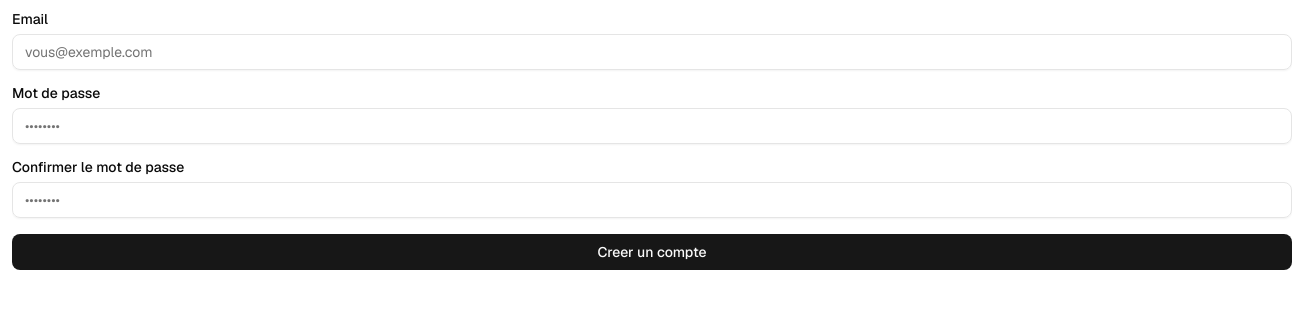
RegisterForm › shows error when passwords do not match
In the field labelled "Email": (652, 52) [12, 34, 1292, 70], type "test@example.com"
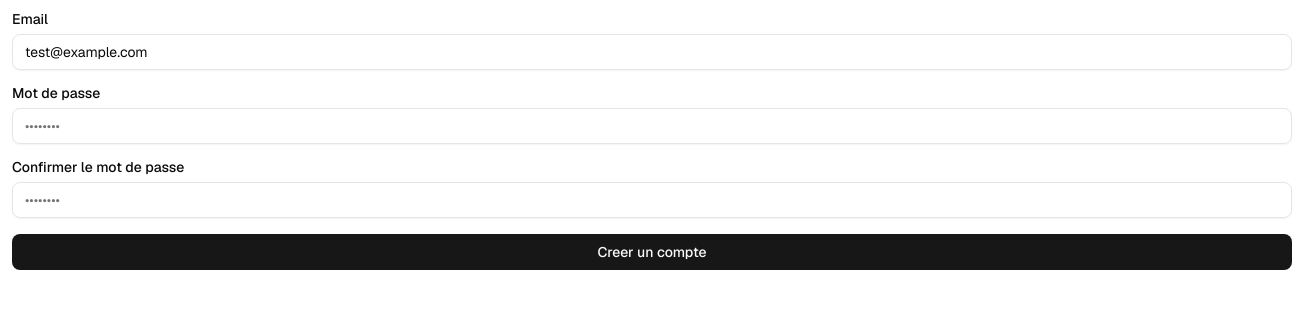
In the password field labelled "Mot de passe": (652, 126) [12, 108, 1292, 144], type "password123"
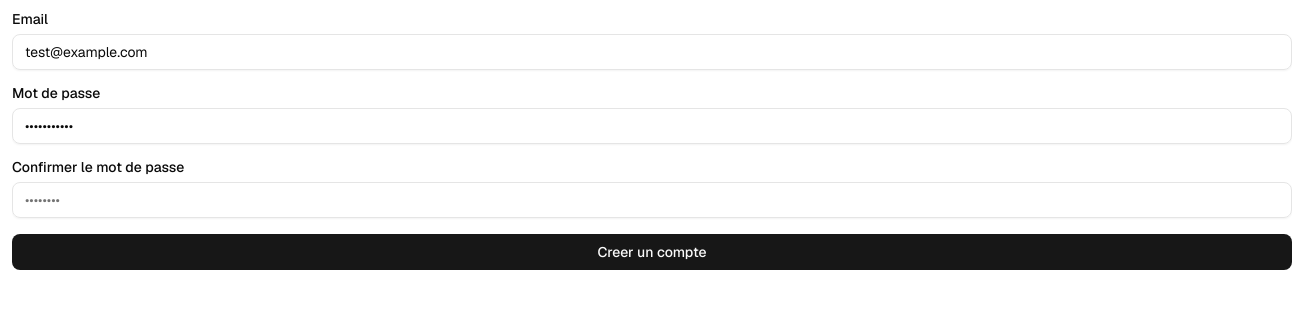
In the password field labelled "Confirmer le mot de passe": (652, 200) [12, 182, 1292, 218], type "differentpass"
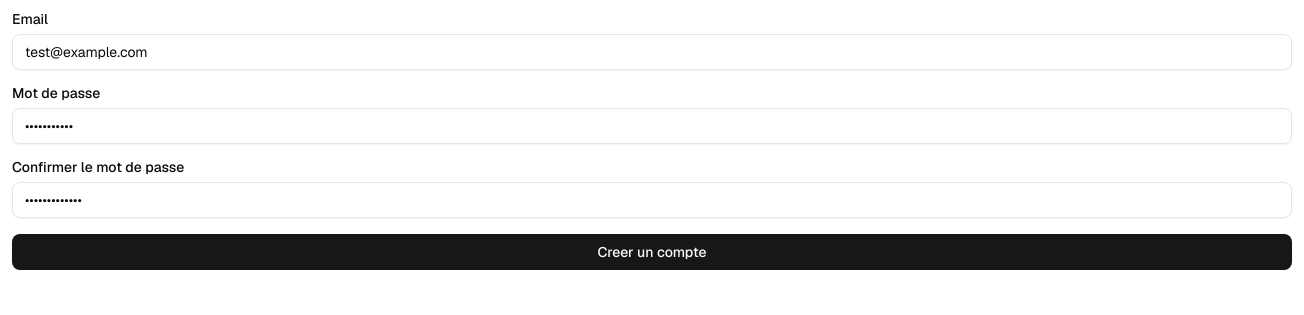
Click the button "Creer un compte": (652, 252) [12, 234, 1292, 270]
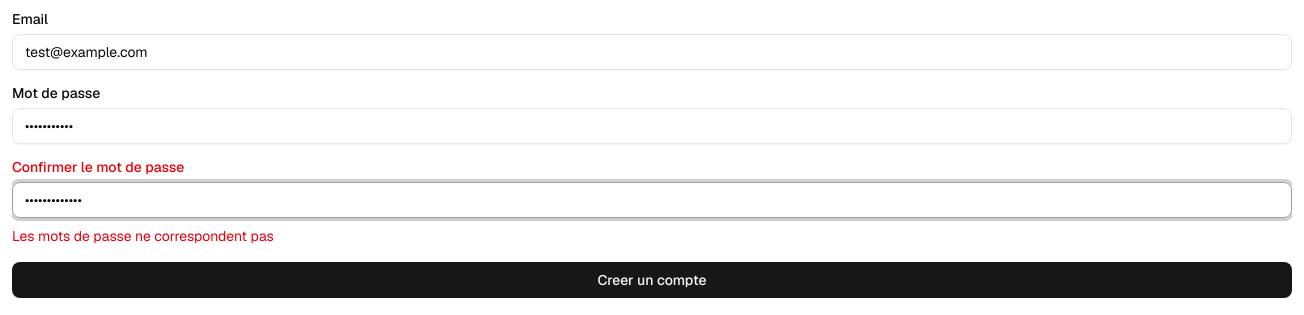
Check: the text "Les mots de passe ne correspondent pas" is shown, box [12, 227, 274, 245]
